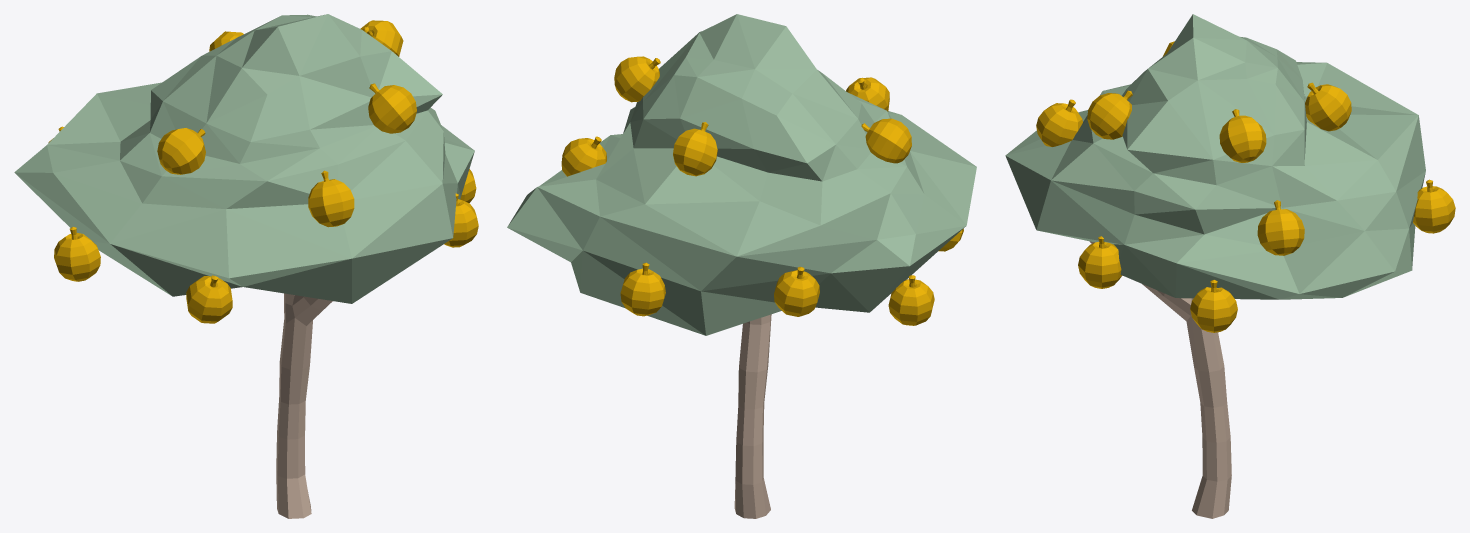
Rendered from OrangeTree.fbx.
The picture shows the model from 3 angles, left to right: view 1: azimuth 30°, elevation 25°; view 2: azimuth 150°, elevation 25°; view 3: azimuth 270°, elevation 25°; orthographic projection. The views are drawn at different scales.
Visible parts, largest first — view 1: pCube4, pCylinder6, pSphere7, pSphere12, pSphere4, pSphere11, pSphere13, pSphere2, pSphere14; view 2: pCube4, pCylinder6, pSphere9, pSphere8, pSphere10, pSphere11, pSphere12, pSphere14, pSphere6, pSphere4; view 3: pCube4, pCylinder6, pSphere6, pSphere14, pSphere8, pSphere5, pSphere7, pSphere2, pSphere9, pSphere4.
Boxes of the visible parts, bbox=[...] form: pCube4: bbox=[14, 14, 474, 303]; pCylinder6: bbox=[276, 293, 332, 518]; pSphere7: bbox=[368, 83, 416, 133]; pSphere12: bbox=[157, 128, 205, 174]; pSphere4: bbox=[308, 170, 354, 227]; pSphere11: bbox=[54, 227, 100, 281]; pSphere13: bbox=[186, 275, 232, 323]; pSphere2: bbox=[444, 193, 478, 247]; pSphere14: bbox=[360, 20, 403, 56]; pCube4: bbox=[507, 14, 976, 335]; pCylinder6: bbox=[734, 314, 771, 518]; pSphere9: bbox=[620, 262, 665, 316]; pSphere8: bbox=[673, 122, 717, 176]; pSphere10: bbox=[774, 266, 819, 316]; pSphere11: bbox=[888, 275, 934, 325]; pSphere12: bbox=[861, 118, 911, 163]; pSphere14: bbox=[614, 56, 660, 102]; pSphere6: bbox=[561, 136, 606, 176]; pSphere4: bbox=[846, 77, 889, 111]; pCube4: bbox=[1005, 14, 1425, 299]; pCylinder6: bbox=[1089, 241, 1231, 518]; pSphere6: bbox=[1257, 200, 1304, 255]; pSphere14: bbox=[1219, 109, 1266, 162]; pSphere8: bbox=[1305, 82, 1351, 131]; pSphere5: bbox=[1190, 280, 1237, 332]; pSphere7: bbox=[1087, 90, 1132, 139]; pSphere2: bbox=[1078, 236, 1122, 288]; pSphere9: bbox=[1413, 179, 1455, 233]; pSphere4: bbox=[1036, 99, 1082, 146].
Size of the model in its own units: 15.69 by 18.36 by 15.45.
